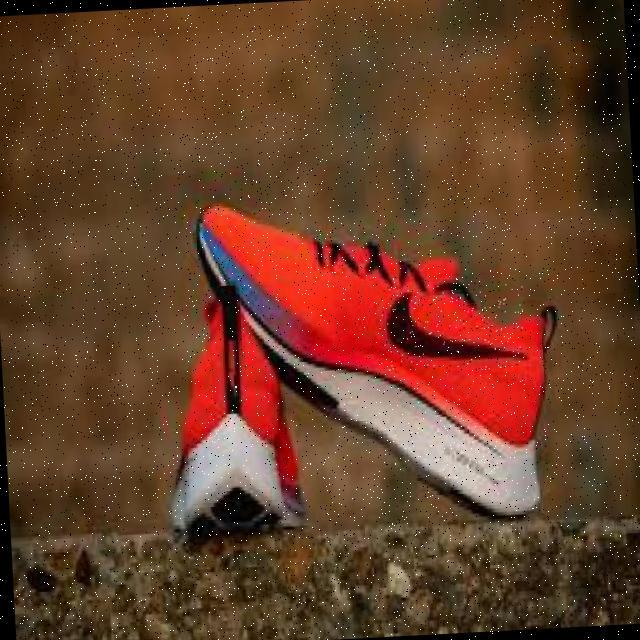Nike: (377, 279, 529, 375)
